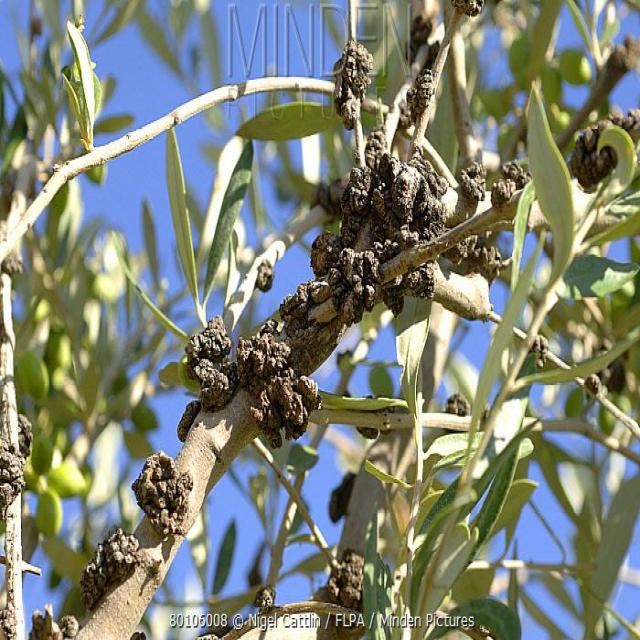Tuberculosis: (335, 128, 449, 248), (238, 333, 321, 447), (307, 233, 401, 325), (133, 451, 193, 540), (81, 527, 139, 608), (186, 318, 236, 410), (334, 37, 372, 143), (570, 117, 620, 191), (442, 237, 504, 284), (321, 548, 362, 611), (0, 446, 26, 520), (491, 161, 530, 208), (407, 59, 434, 125), (253, 585, 293, 621), (403, 262, 439, 301), (459, 162, 486, 204), (18, 410, 33, 460), (453, 0, 488, 18), (254, 259, 274, 290), (446, 394, 470, 413)
